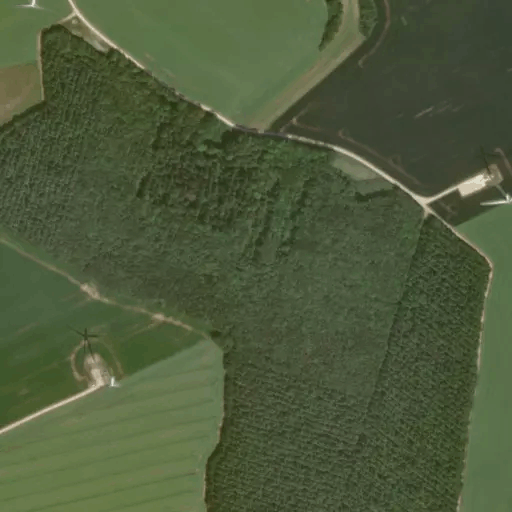wt: (69, 317, 132, 394), (478, 153, 512, 216)
